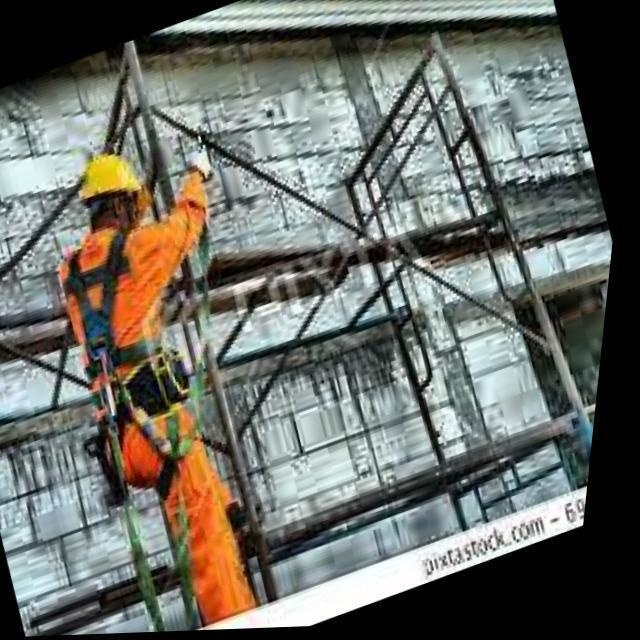Arnes_seguridad: (57, 229, 203, 497)
